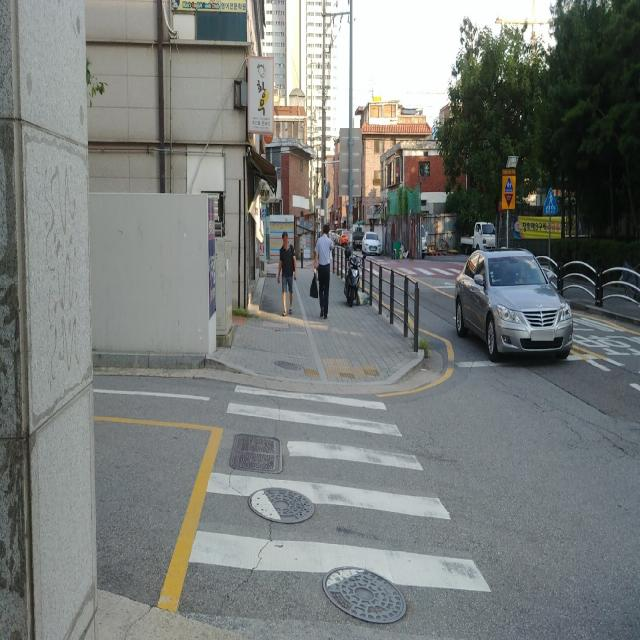횡단보도: (185, 378, 492, 593)
